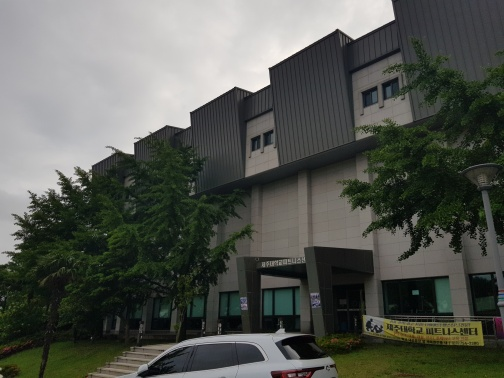Gym: (126, 15, 503, 340), (179, 21, 358, 208), (224, 226, 391, 335)
